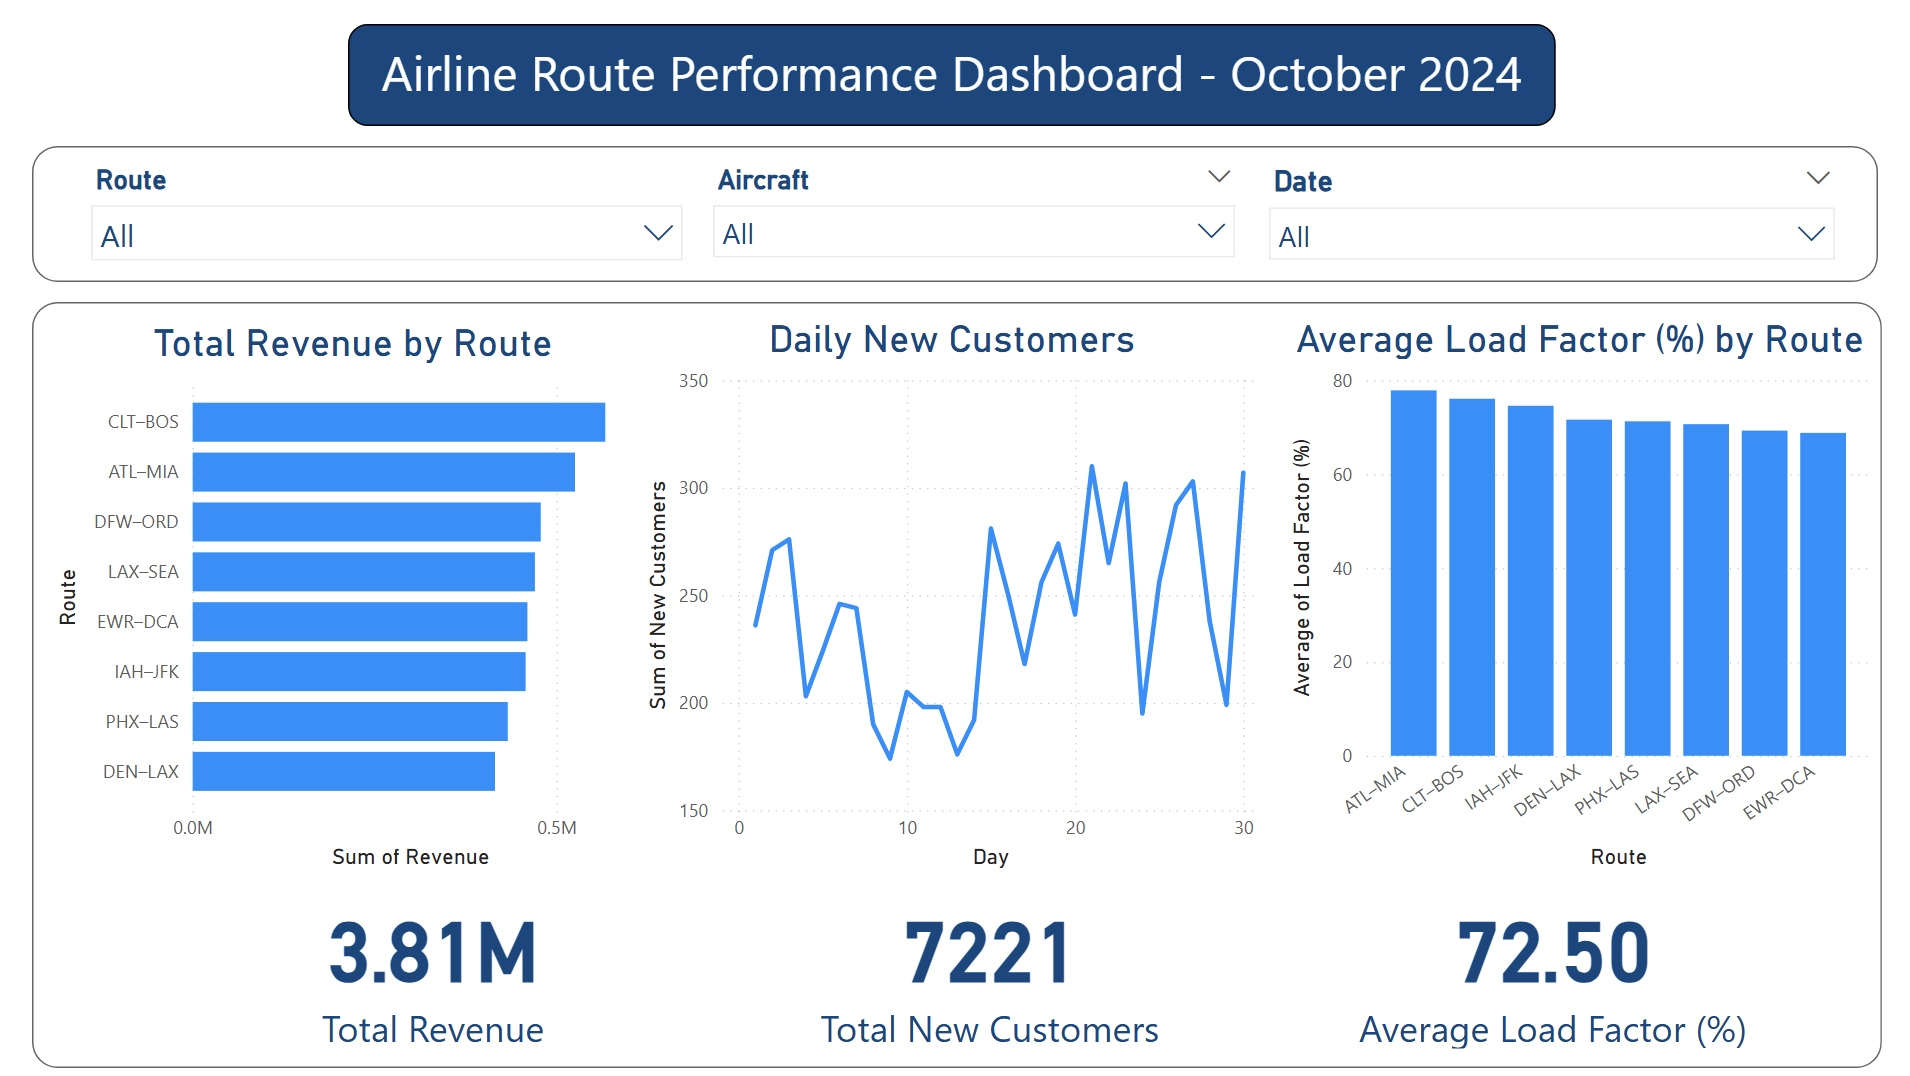

What the dashboard file says about the page in this screenshot:
{"tool":"powerbi","page":{"name":"Page 1","canvas":[1280,720],"ordinal":0},"visuals":[{"type":"shape","box":[42.3,101.8,1209.9,89.9],"z":1000},{"type":"clusteredBarChart","title":"Total Revenue by Route","fields":{"Category":["Routes Dataset.Route"],"Y":["Sum(Routes Dataset.Revenue)"]},"box":[42.3,216.9,403.3,367.6],"z":2000},{"type":"clusteredColumnChart","title":"Average Load Factor (%) by Route","fields":{"Category":["Routes Dataset.Route"],"Y":["Avg(Routes Dataset.Load Factor (%))"]},"box":[858.2,214.2,394,370.2],"z":3000},{"type":"lineChart","title":"Daily New Customers","fields":{"Category":["Routes Dataset.Date.Variation.Date Hierarchy.Day"],"Y":["Sum(Routes Dataset.New Customers)"]},"box":[432.4,214.2,415.2,370.2],"z":4000},{"type":"card","fields":{"Values":["Avg(Routes Dataset.Load Factor (%))"]},"box":[862.1,584.5,350.4,119],"z":5000},{"type":"card","fields":{"Values":["Sum(Routes Dataset.Revenue)"]},"box":[121.7,584.5,350.4,119],"z":6000},{"type":"card","fields":{"Values":["Sum(Routes Dataset.New Customers)"]},"box":[490.6,584.5,349.1,119],"z":7000},{"type":"slicer","fields":{"Values":["Routes Dataset.Route"]},"box":[60.8,108.4,411.2,75.4],"z":8000},{"type":"slicer","fields":{"Values":["Routes Dataset.Aircraft"]},"box":[472.1,108.4,365,75.4],"z":9000},{"type":"slicer","fields":{"Values":["Routes Dataset.Date"]},"box":[839.7,108.4,394,75.4],"z":10000},{"type":"textbox","box":[240.7,21.2,798.7,67.4],"z":11000}]}

Visuals, with their boxes in screenshot pixels (x1, y1, x2, y2), scaled from the page's 1280x720 canvas onto the 1910x1076 screenshot:
shape: {"left": 63, "top": 152, "right": 1869, "bottom": 286}
"Total Revenue by Route" clusteredBarChart: {"left": 63, "top": 324, "right": 665, "bottom": 874}
"Average Load Factor (%) by Route" clusteredColumnChart: {"left": 1281, "top": 320, "right": 1869, "bottom": 873}
"Daily New Customers" lineChart: {"left": 645, "top": 320, "right": 1265, "bottom": 873}
card - Avg(Routes Dataset.Load Factor (%)): {"left": 1286, "top": 874, "right": 1809, "bottom": 1051}
card - Sum(Routes Dataset.Revenue): {"left": 182, "top": 874, "right": 704, "bottom": 1051}
card - Sum(Routes Dataset.New Customers): {"left": 732, "top": 874, "right": 1253, "bottom": 1051}
slicer - Routes Dataset.Route: {"left": 91, "top": 162, "right": 704, "bottom": 275}
slicer - Routes Dataset.Aircraft: {"left": 704, "top": 162, "right": 1249, "bottom": 275}
slicer - Routes Dataset.Date: {"left": 1253, "top": 162, "right": 1841, "bottom": 275}
textbox: {"left": 359, "top": 32, "right": 1551, "bottom": 132}
